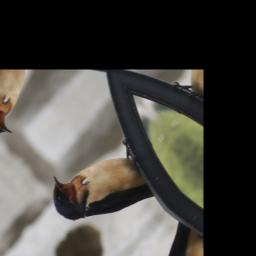Swallow: (38, 115, 171, 256)
